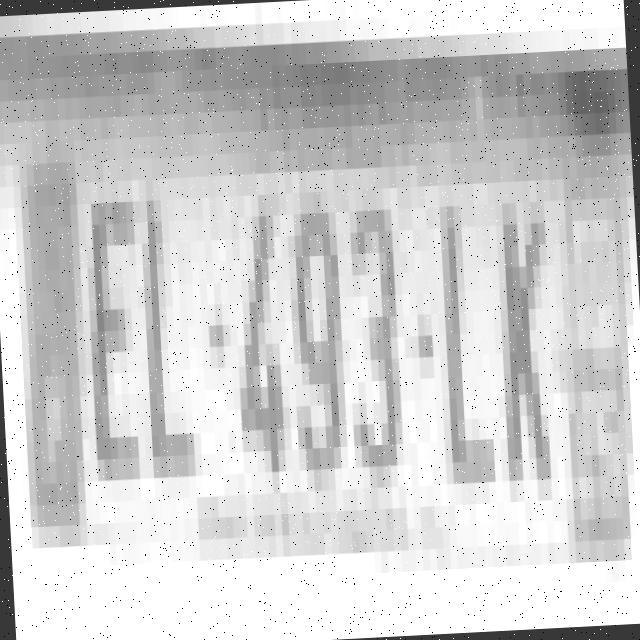EU: (0, 78, 640, 610)
France: (12, 141, 92, 547)
